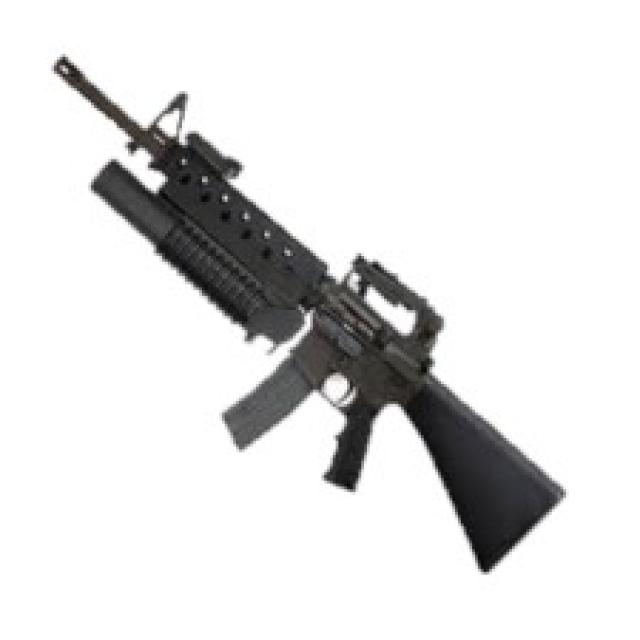rifle: (45, 43, 574, 586)
